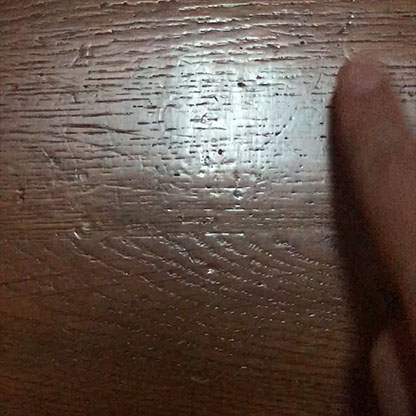fingertip: (329, 43, 403, 125)
